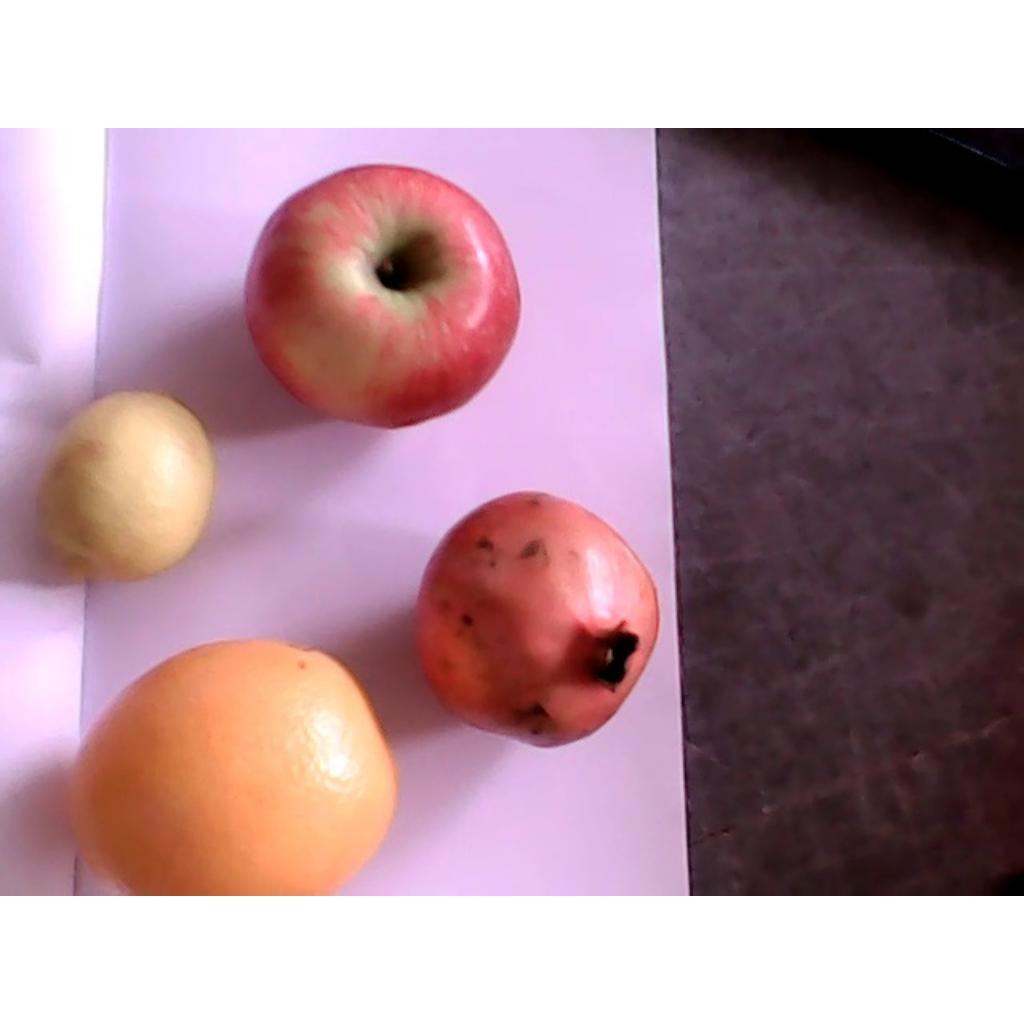apple: (243, 163, 518, 431)
lemon: (31, 389, 213, 584)
orange: (66, 636, 399, 893)
pomegranate: (412, 491, 663, 749)
